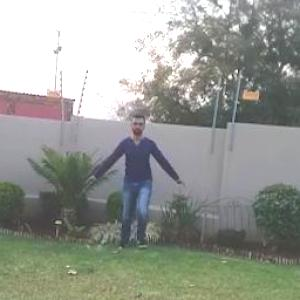land: (73, 110, 180, 253)
